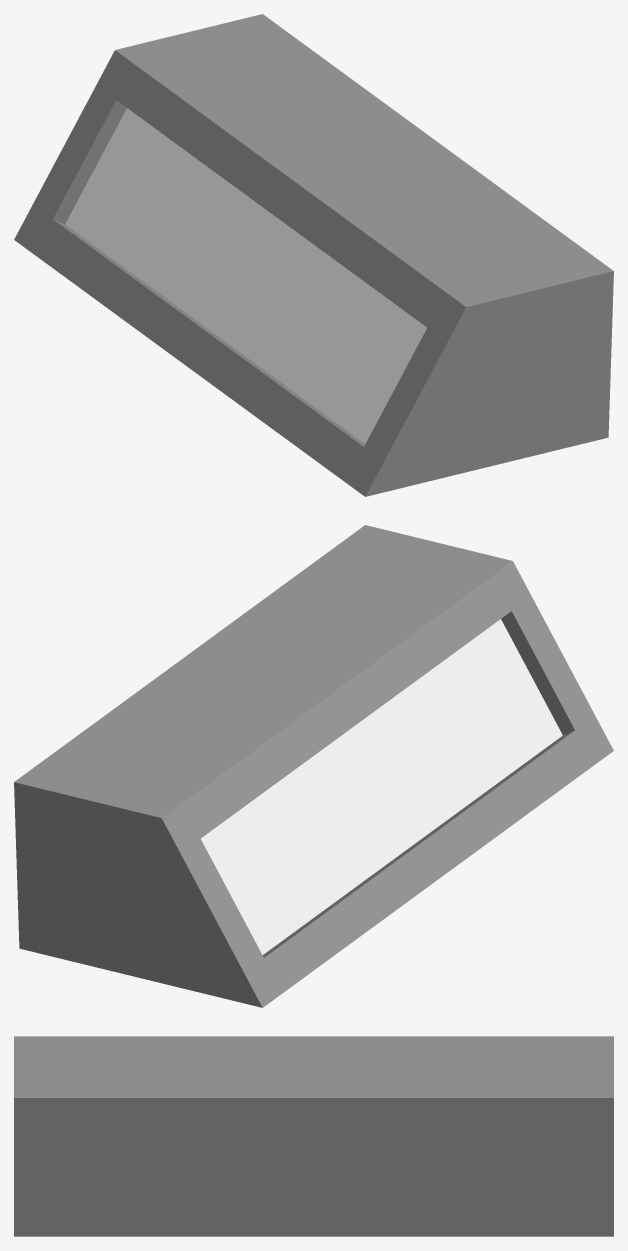
File: bordertracklight.fbx
3 renders of one model, top to bottom at view 1: azimuth 30°, elevation 25°; view 2: azimuth 150°, elevation 25°; view 3: azimuth 270°, elevation 25°, orthographic. The views are drawn at different scales.
Visible parts, largest first — view 1: bordertracklight; view 2: bordertracklight; view 3: bordertracklight.
Part boxes in pixels (x1,y1,x2,y2): bordertracklight: (14,14,613,496); bordertracklight: (14,525,613,1007); bordertracklight: (14,1036,613,1236).
Bounding box in the file's own units: 5.11 × 12.5 × 3.24.
